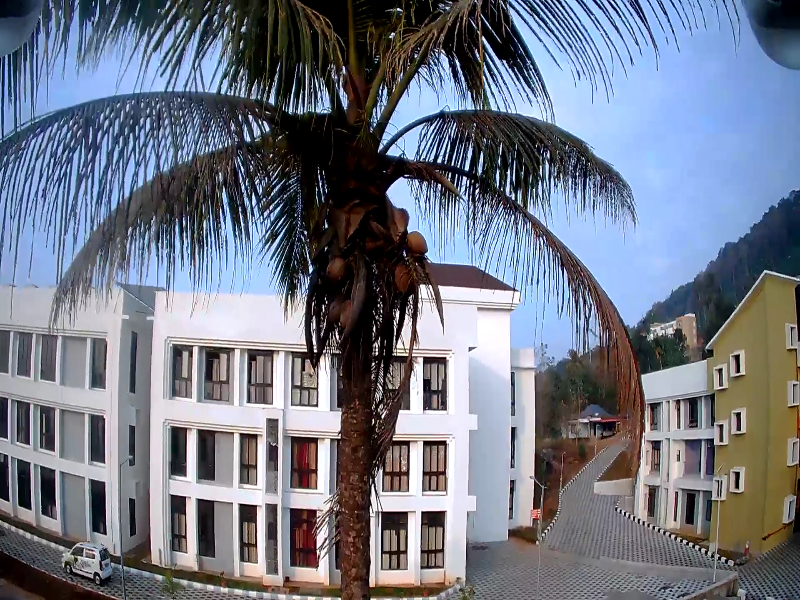coconut: (408, 235, 429, 260), (322, 257, 341, 283), (335, 295, 352, 324), (392, 264, 408, 292), (328, 295, 335, 314)
